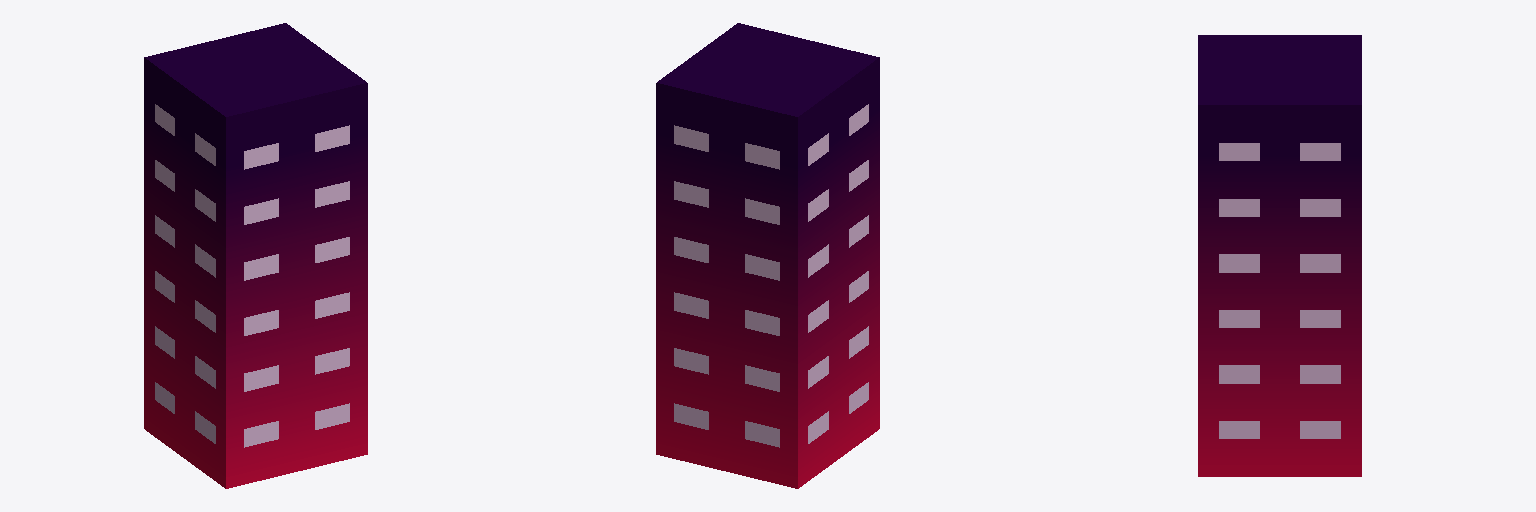
3 renders of one model, left to right at view 1: azimuth 30°, elevation 25°; view 2: azimuth 150°, elevation 25°; view 3: azimuth 270°, elevation 25°, orthographic.
Visible parts, largest first — view 1: Building_立方体.001; view 2: Building_立方体.001; view 3: Building_立方体.001.
Part boxes in pixels (x1,y1,x2,y2): Building_立方体.001: (144,23,367,488); Building_立方体.001: (656,23,879,488); Building_立方体.001: (1198,35,1361,476).
Size of the model in its own units: 2 by 5.02 by 2.
1 materials, 1 textured.